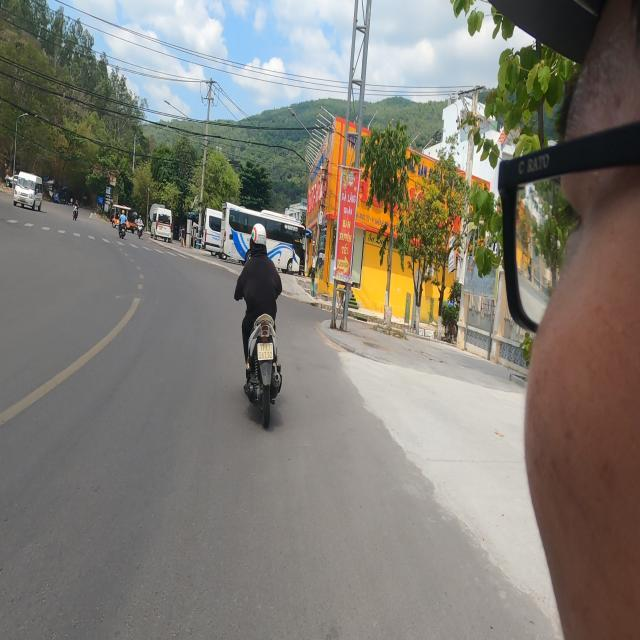walk-crossing: (3, 213, 198, 263)
